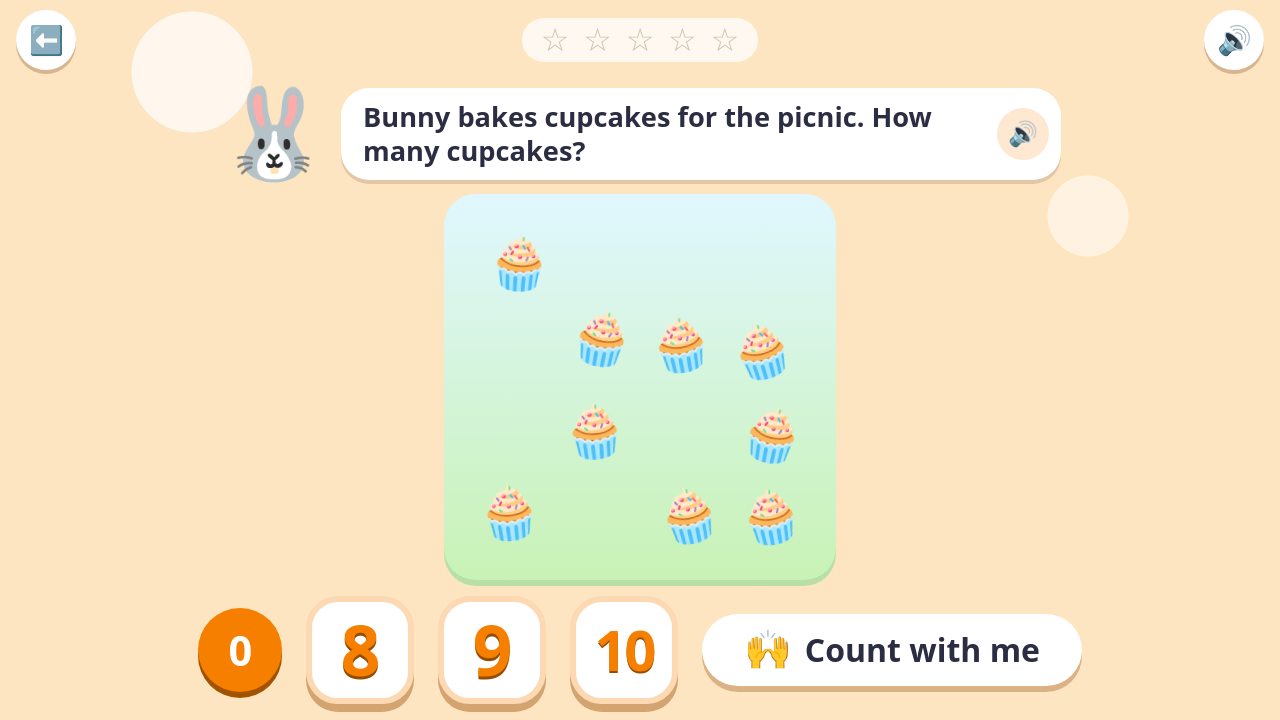
CountingGame › gently corrects a wrong number
Click the button "8" at (360, 650), box [306,596,414,704]
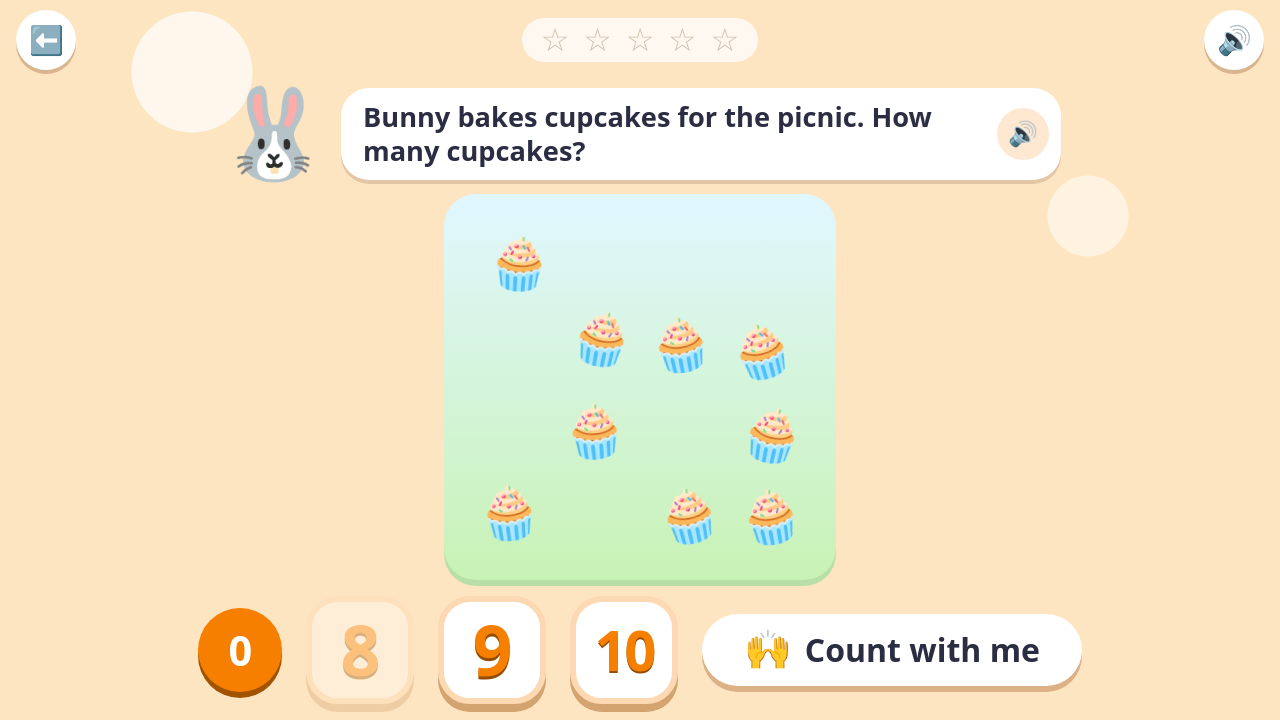
Check: the picture named "0 of 5 stars" is shown, box [522,18,758,62]
Check: the button "8" is disabled, box [306,596,414,704]
